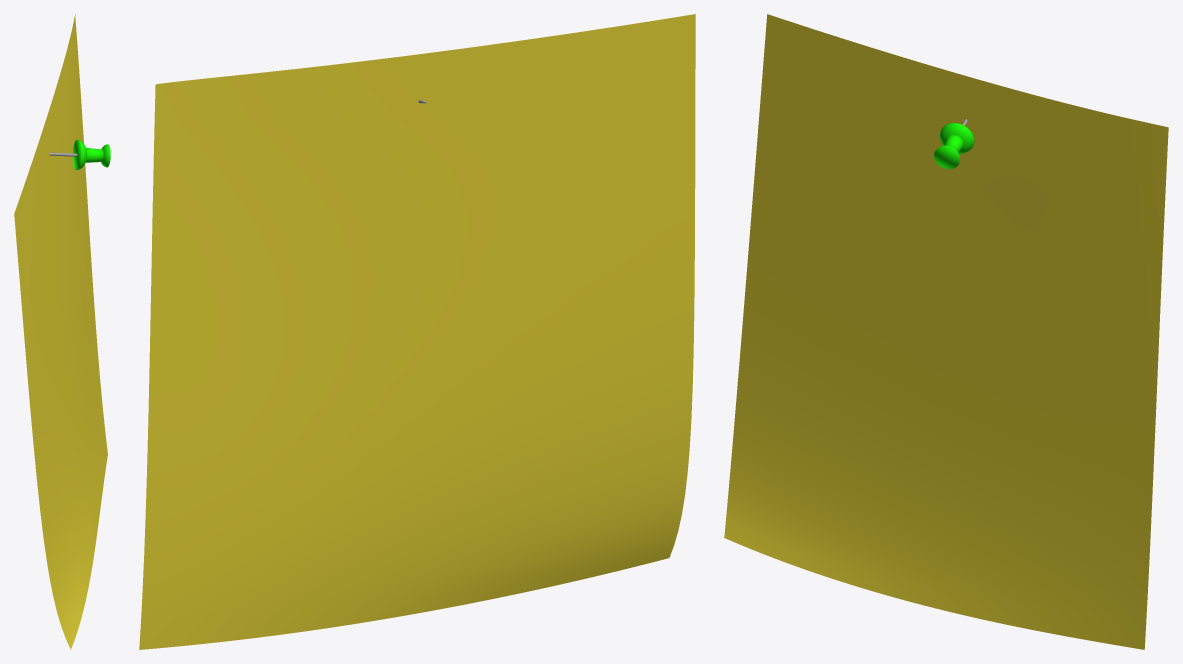
File: positGreen.fbx
3 renders of one model, left to right at view 1: azimuth 30°, elevation 25°; view 2: azimuth 150°, elevation 25°; view 3: azimuth 270°, elevation 25°, orthographic. The views are drawn at different scales.
Visible parts, largest first — view 1: Posit, Plastic; view 2: Posit; view 3: Posit, Plastic.
Boxes of the visible parts, x1,y1,x2,y2 form: Posit: (14,14,107,649); Plastic: (72,139,110,170); Posit: (139,14,695,649); Posit: (724,14,1168,649); Plastic: (934,123,974,169).
Size of the model in its own units: 68.71 by 117 by 88.78.
